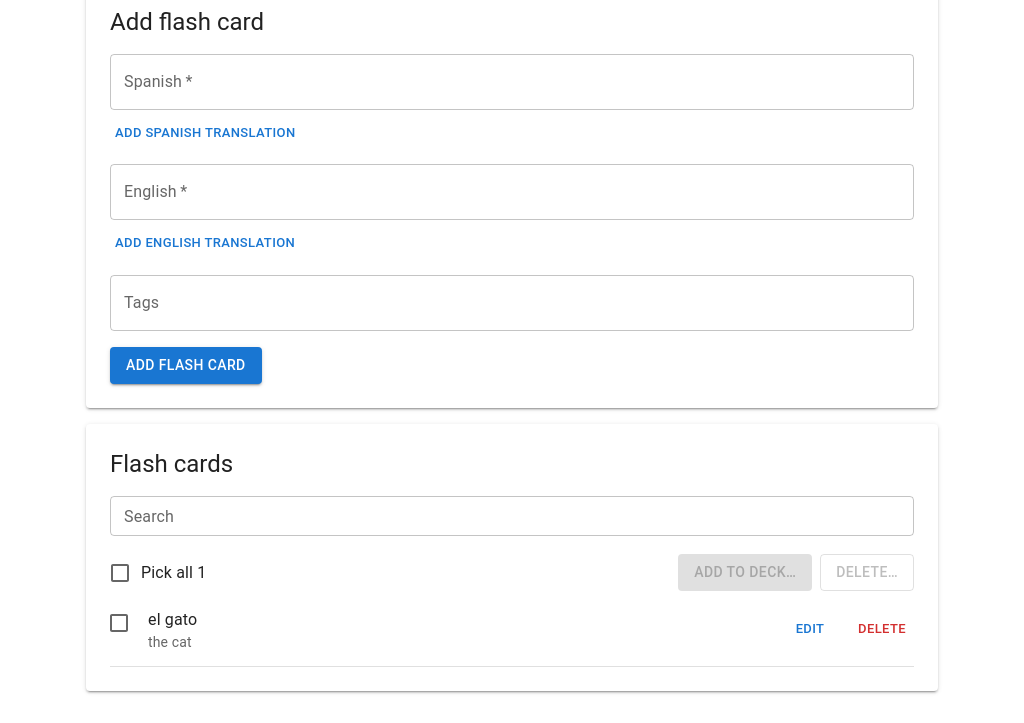
Test: pictures › neither shows pictures nor offers one when the user turned pictures off
(page scrolled)
Expected: the text "el gato" is shown, top-left (148, 610), bottom-right (197, 629)
Click the button named "Edit \"el gato\"": (810, 630) top-left (778, 614), bottom-right (842, 645)
(page scrolled)
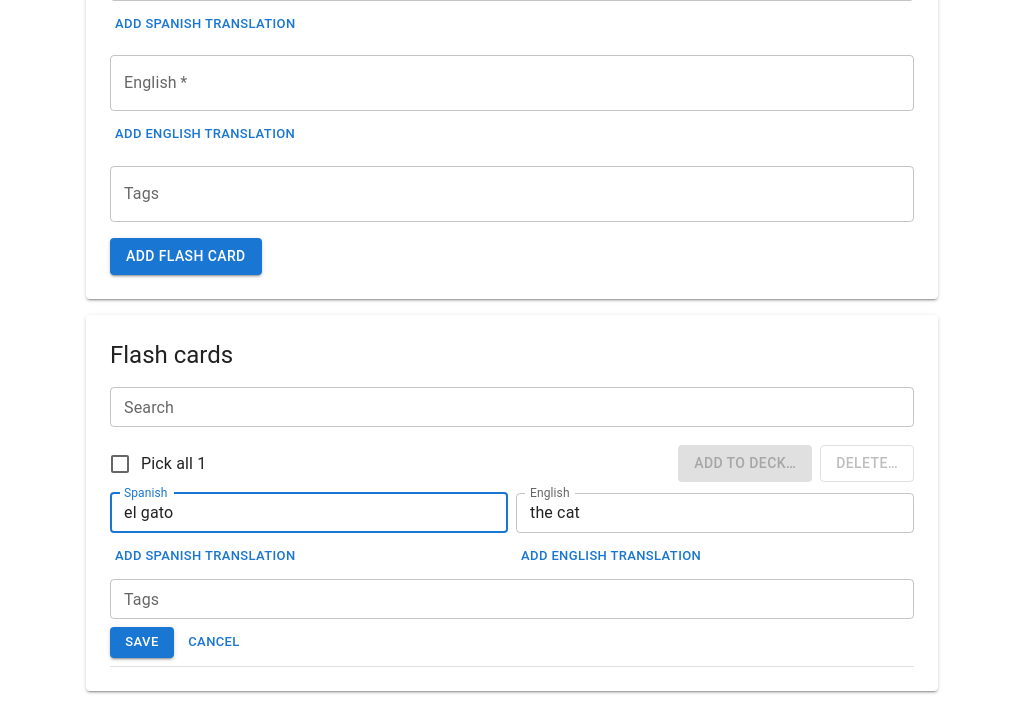
Click the button "Save": (142, 643) top-left (110, 627), bottom-right (174, 658)
(page scrolled)
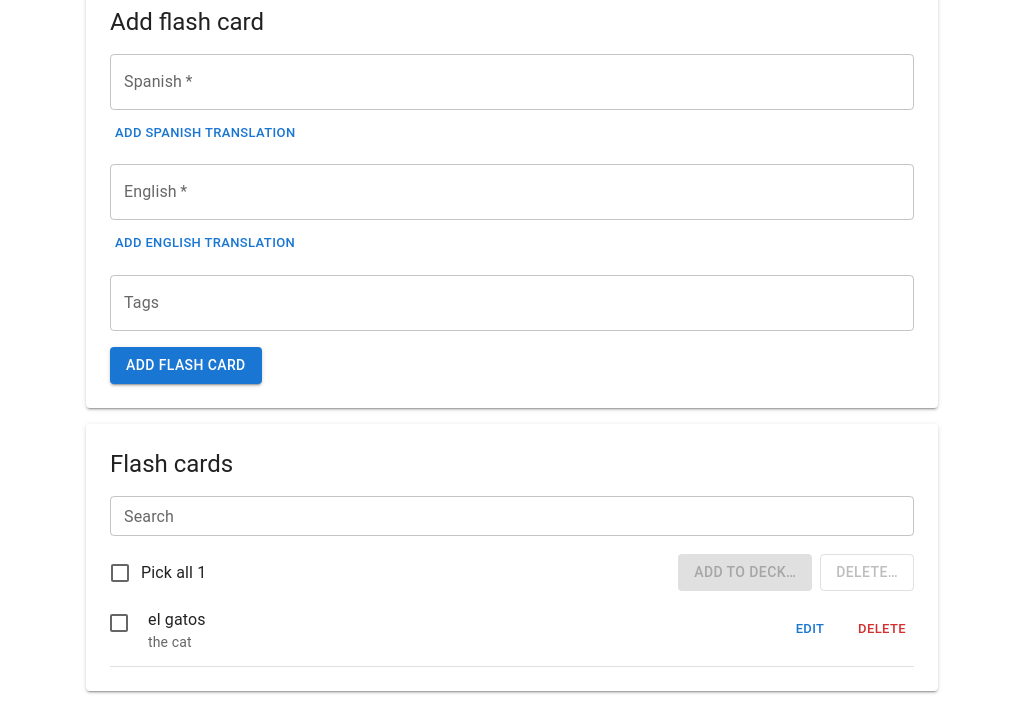
Result: the button "Save" is gone
